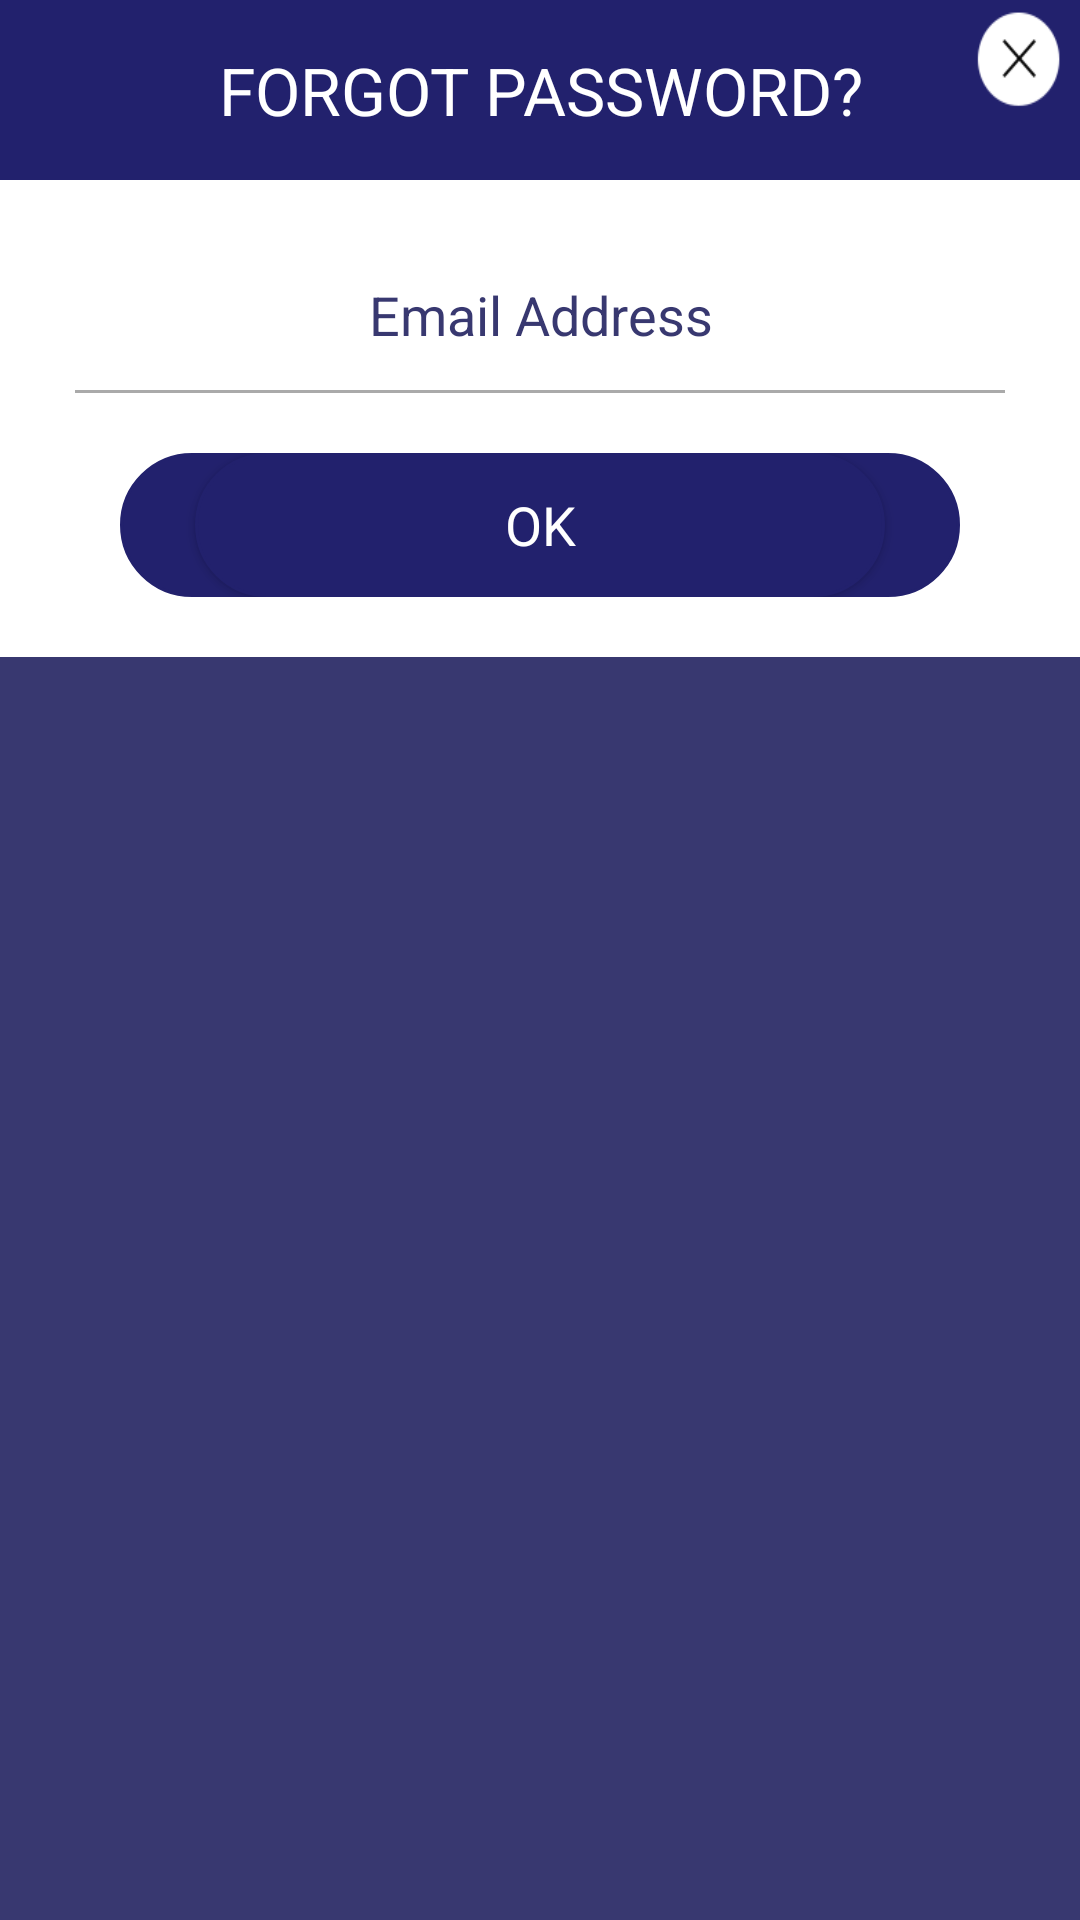

Named icons in this screenshot (1080px×1920px) and their bounding boxes, box(x1, y1, x2, y2):
close: box(977, 12, 1060, 106)
